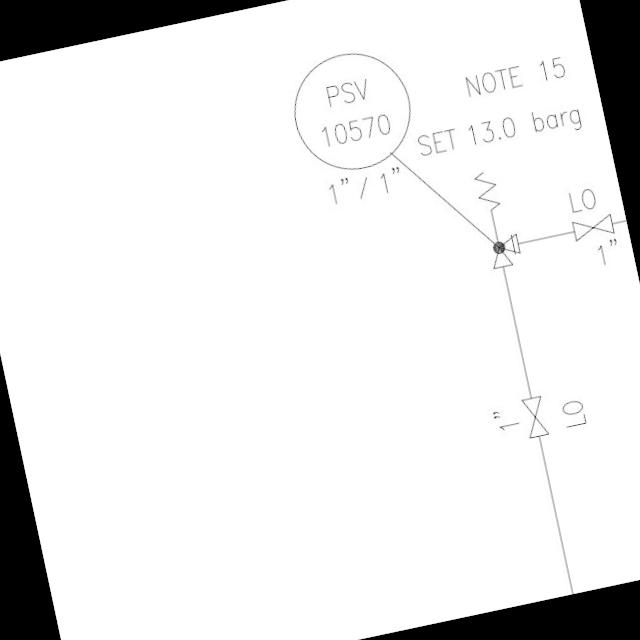GV: (514, 388, 552, 443), (566, 209, 620, 244)
RPV: (468, 159, 532, 289)
